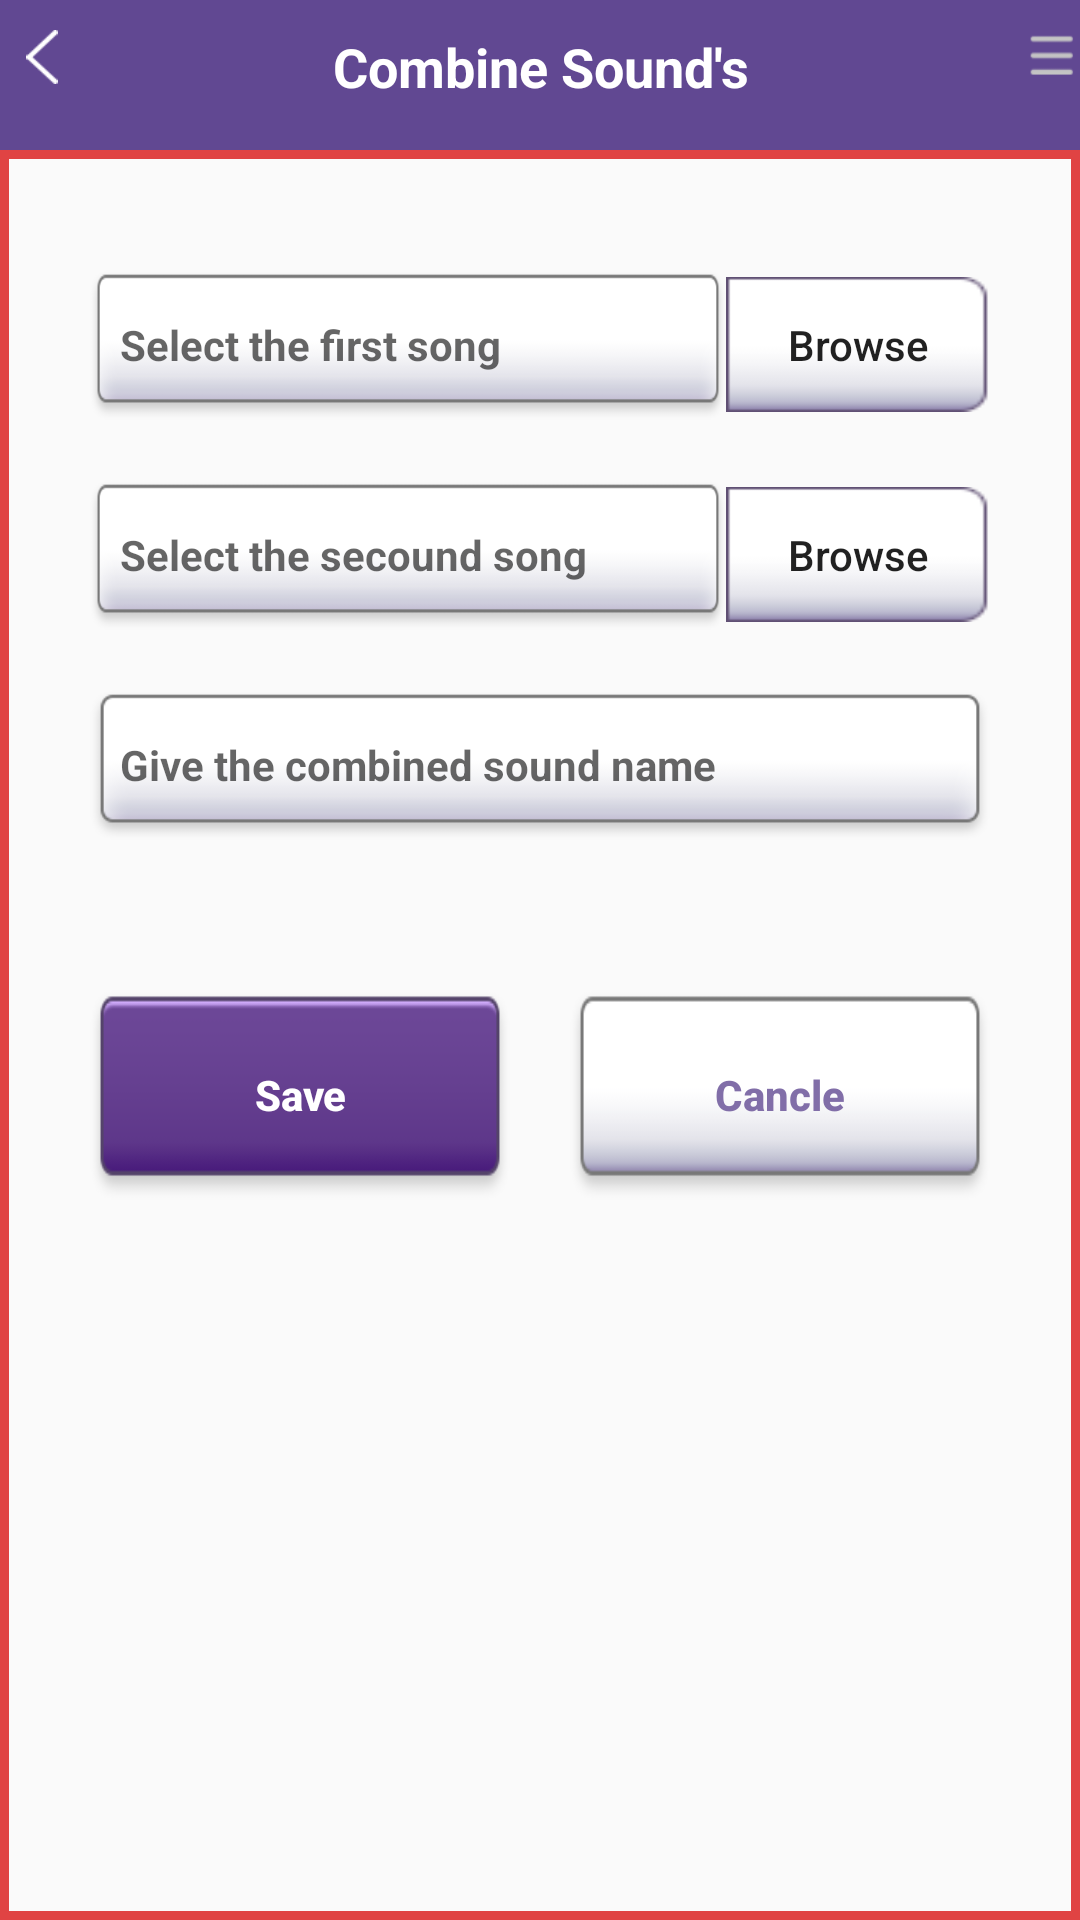

Locate icon controls on the screen. Image size 1080px×1920px, boxes as Rect(x1, y1, x2, y2).
back arrow: Rect(26, 30, 58, 84)
three bars: Rect(1030, 36, 1073, 75)
